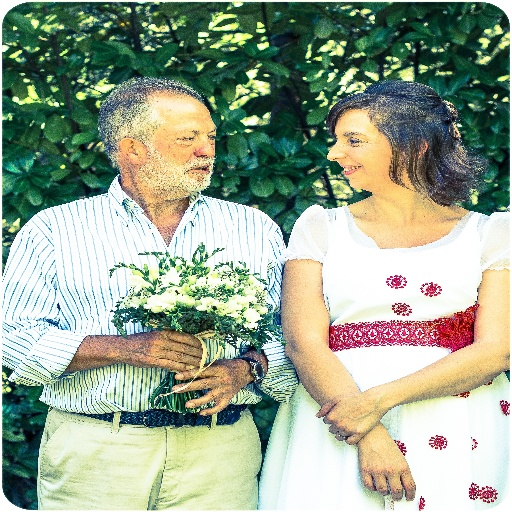hand: (356, 432, 418, 501), (168, 360, 246, 414), (312, 393, 384, 443), (130, 333, 204, 378)
